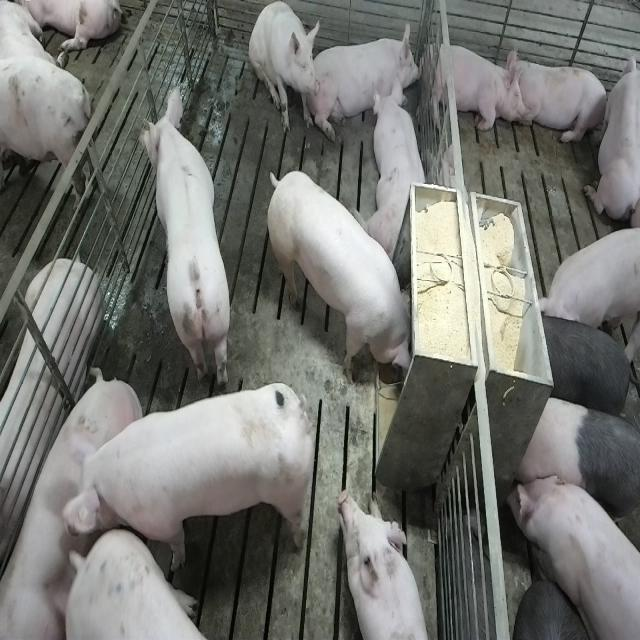Feeding: (271, 168, 422, 390)
Lateral_lying: (0, 256, 103, 632)
Sitting: (249, 2, 320, 137)
Standing: (64, 378, 316, 572), (137, 80, 233, 384), (504, 467, 638, 640), (62, 524, 240, 639), (514, 391, 638, 548), (0, 57, 102, 223), (534, 308, 638, 422), (532, 225, 636, 338)
Sternal_lying: (339, 489, 435, 640), (312, 22, 424, 136), (368, 81, 430, 263), (424, 36, 524, 135), (584, 42, 637, 225), (511, 51, 610, 148)
